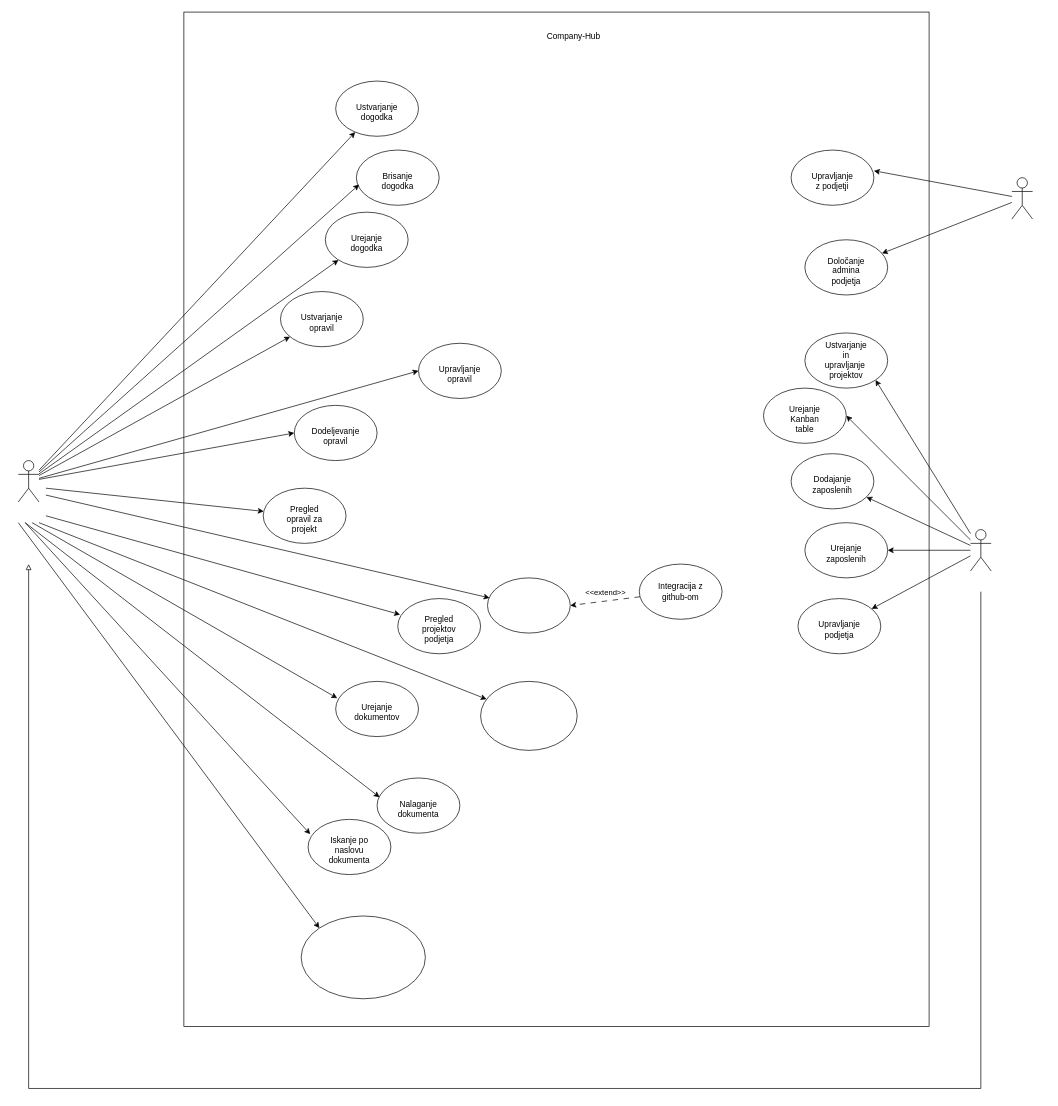
The diagram is 1058 pixels wide and 1106 high, and some of its shapes have lost their labels. The shapes that lost their labels are listed below. From the top down, each one's centre as x and y in pixels, then its label:
[1022,198]: Super admin
[28,481]: Zaposlen
[980,550]: Admin
[528,605]: Premikanje opravil po tabli
[528,715]: Pregled in spremljanje dogodkov in opravil v koledarju
[362,957]: Iskanje po znanju iz dokumenta s pomoćjo umetne inteligence
